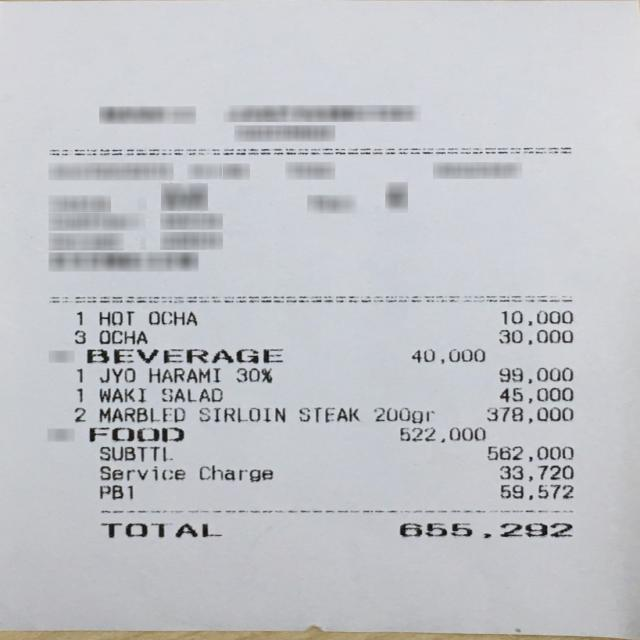text: (85, 348, 281, 362), (398, 523, 570, 538), (99, 522, 220, 537), (486, 406, 571, 422), (98, 406, 182, 422), (100, 465, 184, 481), (89, 427, 182, 441), (200, 465, 274, 482), (198, 407, 284, 421), (398, 427, 484, 441), (486, 446, 571, 460), (499, 386, 572, 402), (499, 367, 571, 383), (499, 484, 571, 499), (148, 367, 218, 382), (497, 330, 571, 344), (411, 348, 485, 362), (98, 446, 170, 460), (499, 465, 571, 479), (500, 310, 571, 324), (372, 407, 432, 423), (161, 387, 220, 401), (298, 407, 357, 421), (148, 311, 195, 325), (99, 329, 146, 343), (98, 387, 144, 401), (96, 310, 134, 326), (236, 367, 270, 382), (100, 485, 134, 500), (99, 368, 133, 382), (70, 328, 86, 344), (72, 406, 85, 422), (72, 387, 84, 403), (74, 310, 84, 324), (74, 368, 84, 382)
